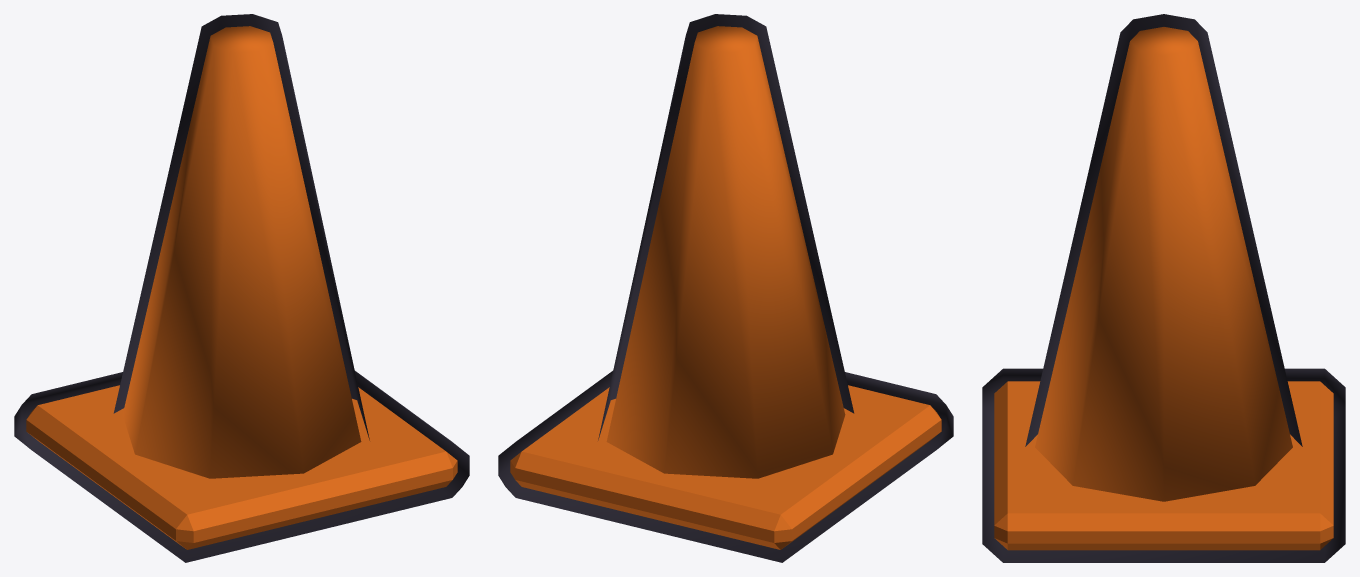
File: traffic_cone.glb
3 views of the same model, side by side, from view 1: azimuth 30°, elevation 25°; view 2: azimuth 150°, elevation 25°; view 3: azimuth 270°, elevation 25° (orthographic). The views are drawn at different scales.
Parts seen in each view (by area): view 1: traffic_cone; view 2: traffic_cone; view 3: traffic_cone.
Boxes of the visible parts, x1,y1,x2,y2 form: traffic_cone: (14, 14, 469, 562); traffic_cone: (498, 14, 953, 562); traffic_cone: (982, 14, 1345, 562).
Size of the model in its own units: 0.535 by 0.7517 by 0.535.
